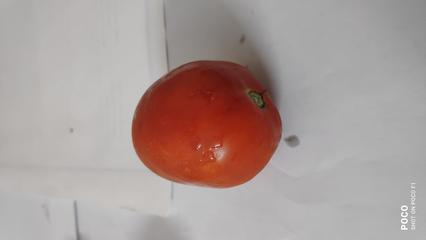tomato: (119, 58, 283, 182)
